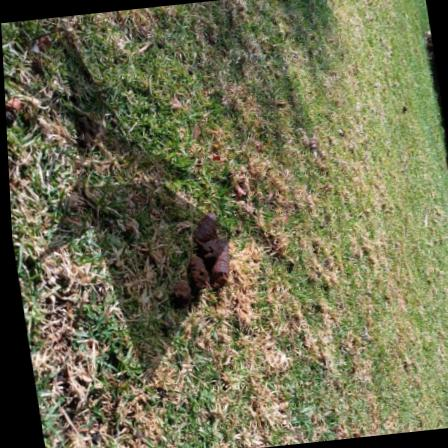dog-poop: (154, 216, 242, 304)
